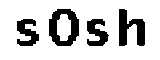0: (47, 9, 81, 48)
h: (114, 6, 148, 51)
s: (12, 17, 41, 48), (85, 20, 108, 50)
